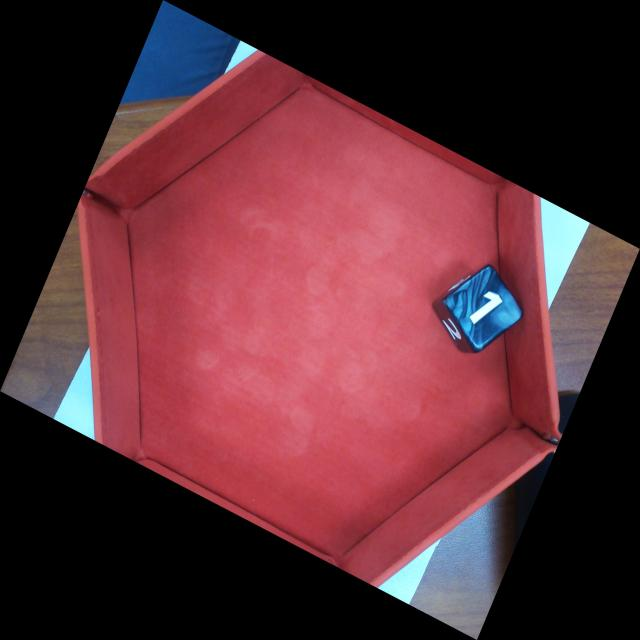dice: (440, 259, 530, 356)
